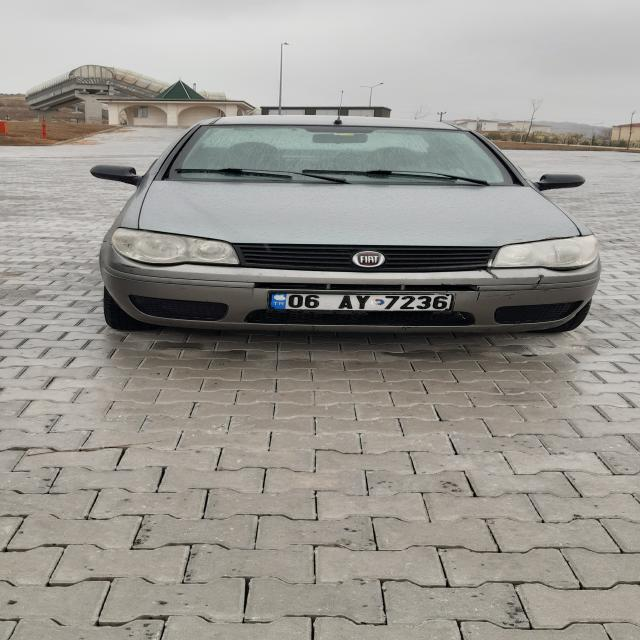license_plate: (267, 293, 454, 311)
